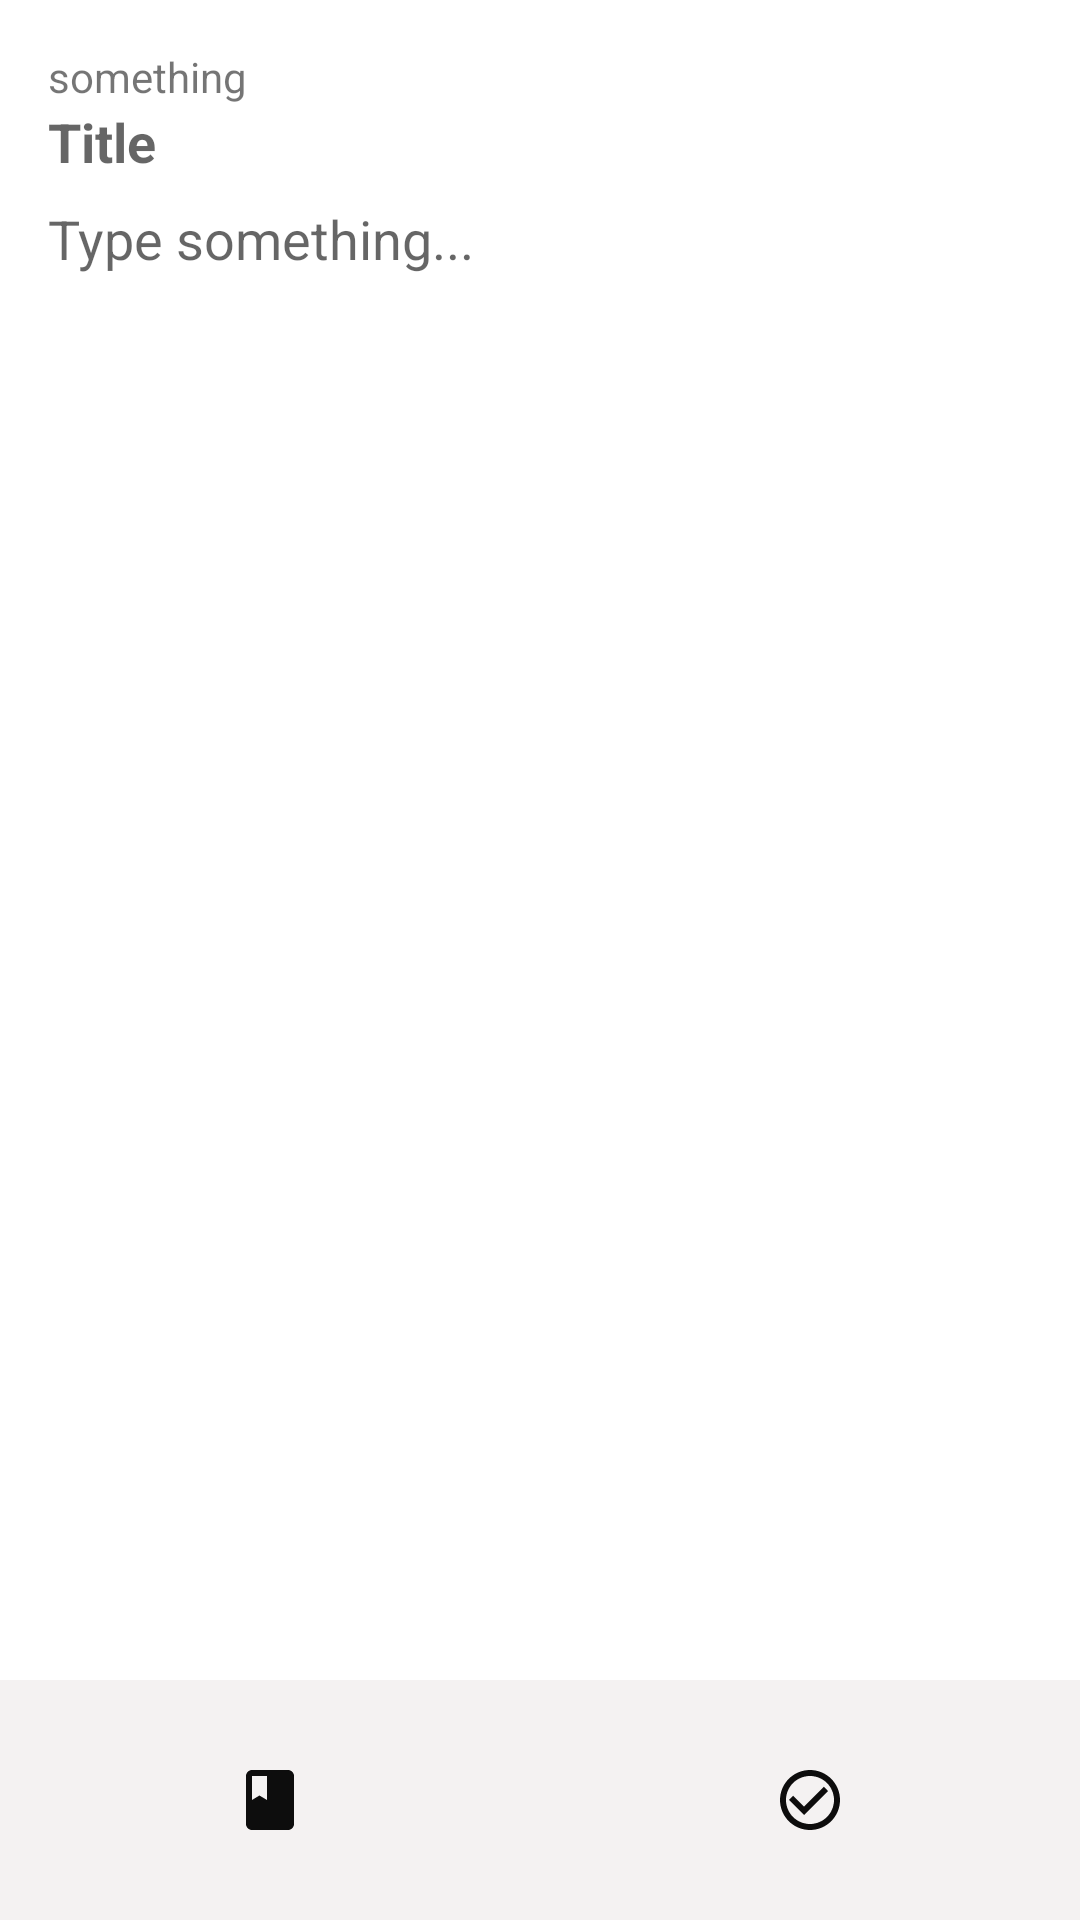

Point at icon controls on the screen. Image size 1080x1920, points as (x=x, y=y).
check circle: (x=810, y=1800)
Note button: (x=270, y=1800)
